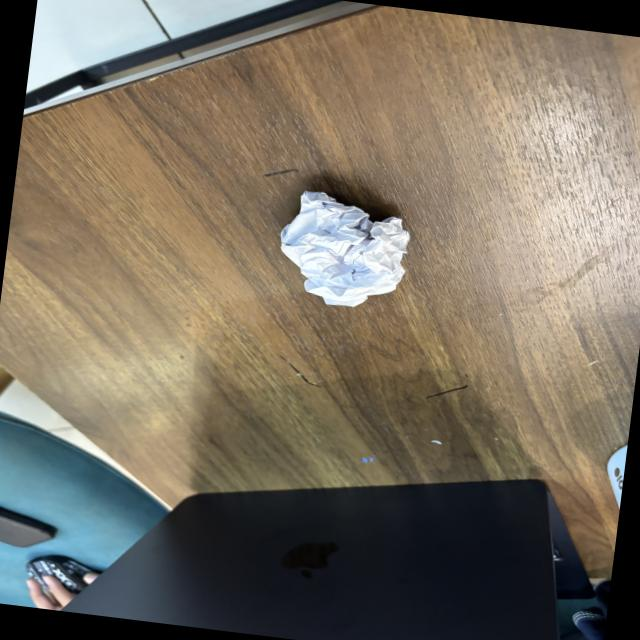crumpled_paper: (266, 178, 423, 324)
